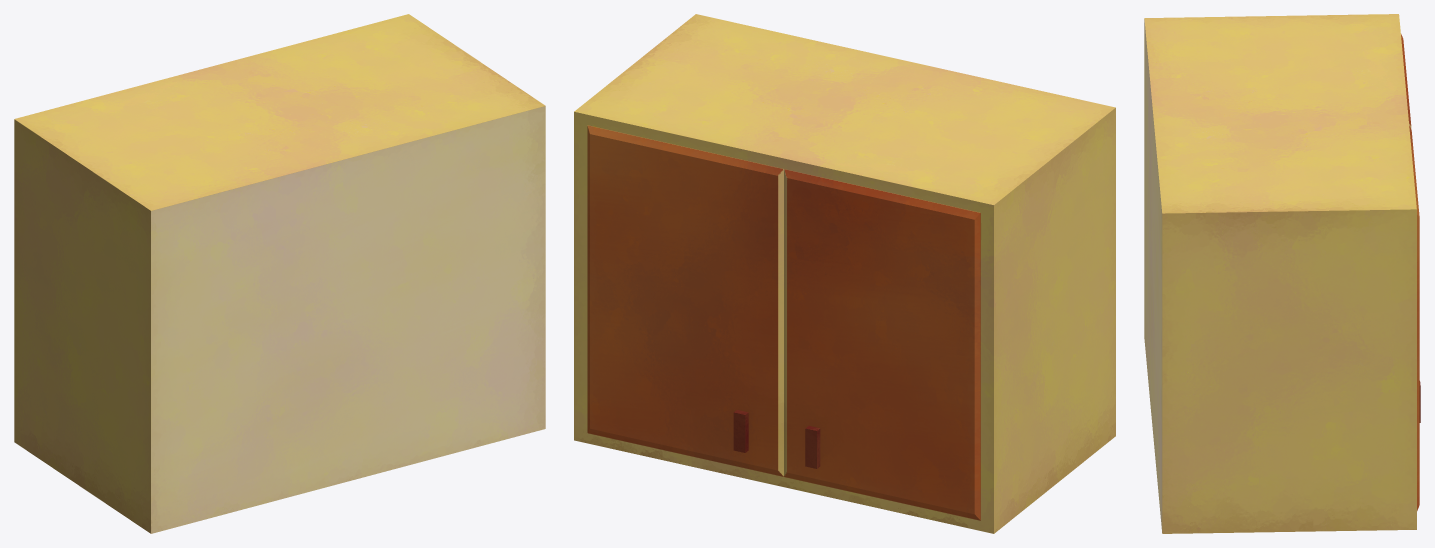
The model's file is 05_Lv1 Cupboard.fbx.
The picture shows the model from 3 angles, left to right: view 1: azimuth 30°, elevation 25°; view 2: azimuth 150°, elevation 25°; view 3: azimuth 270°, elevation 25°; orthographic projection. The views are drawn at different scales.
Parts seen in each view (by area): view 1: Cupboard; view 2: Cupboard; view 3: Cupboard.
Part boxes in pixels (bbox=[...]): Cupboard: bbox=[14, 14, 545, 533]; Cupboard: bbox=[574, 14, 1115, 533]; Cupboard: bbox=[1144, 14, 1420, 533].
Bounding box in the file's own units: 2505 × 1876 × 1465.
